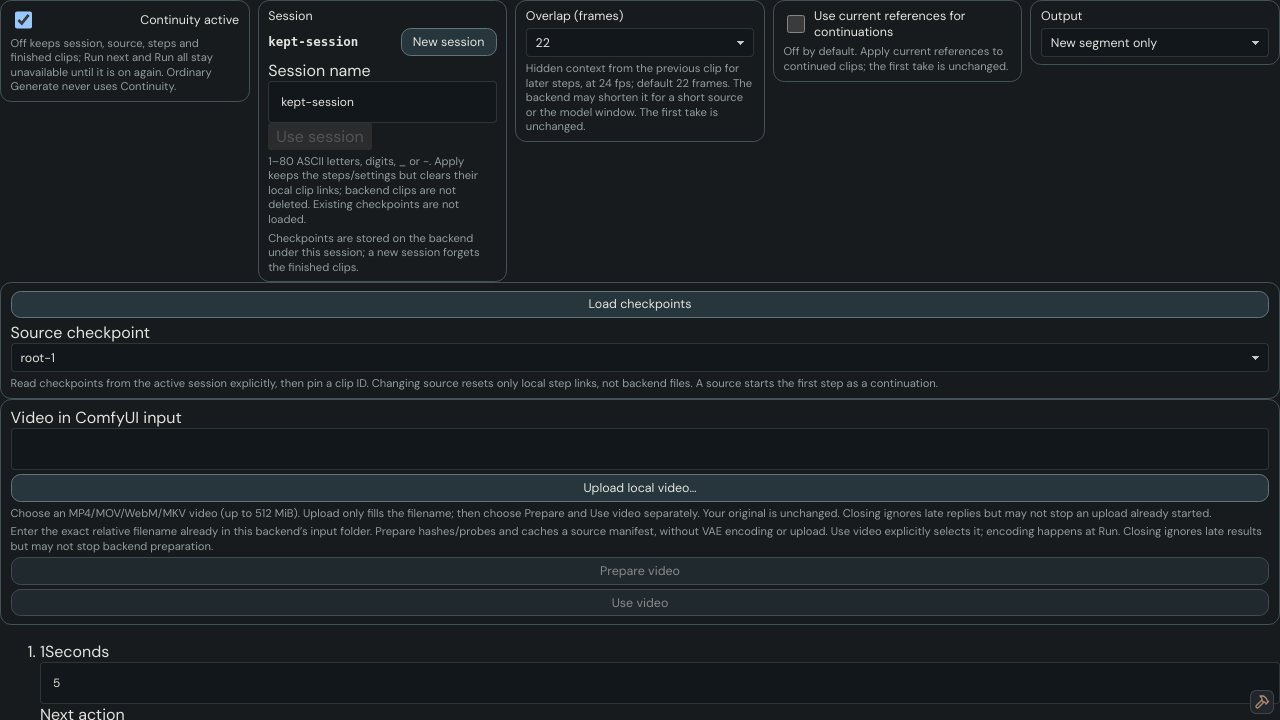
Forge writing locks the continuity plan and Cancel releases it without applying
Click the button named "Prompt Forge" at (1262, 702), box left=1250, top=690, right=1274, bottom=714
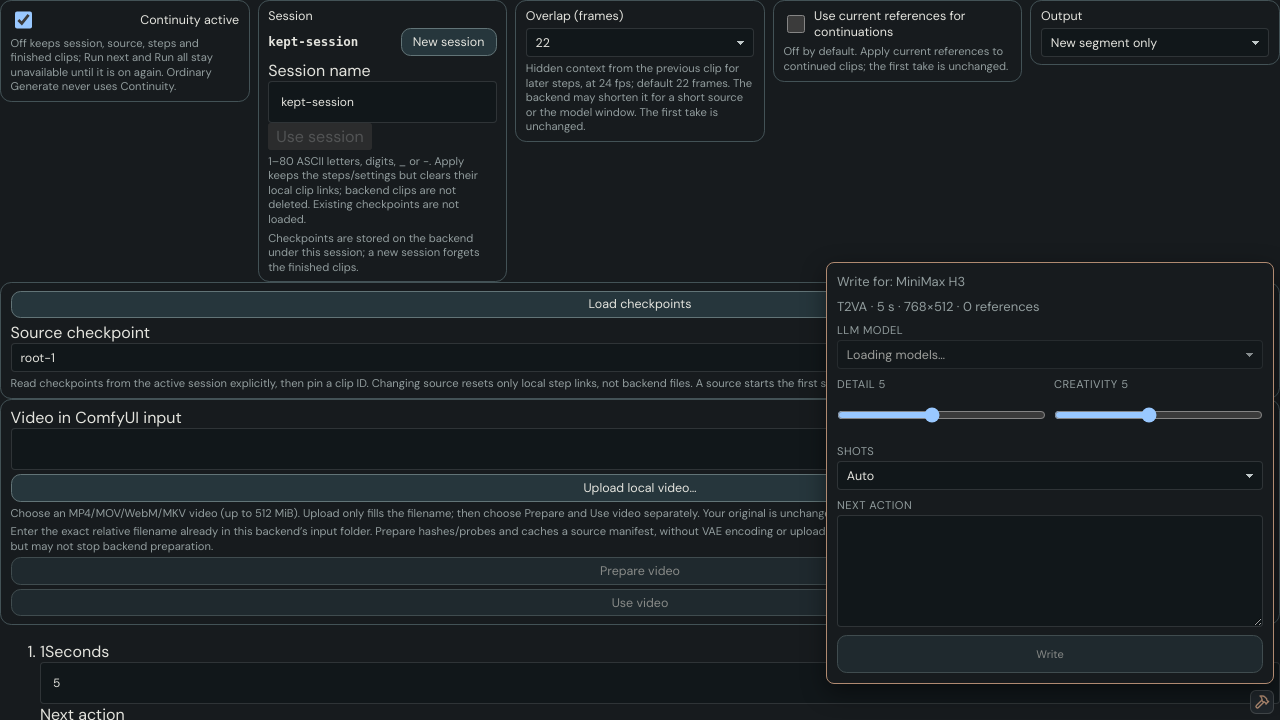
Type "turn" into the text box labelled "Next action" at (1050, 571), box left=837, top=515, right=1263, bottom=627
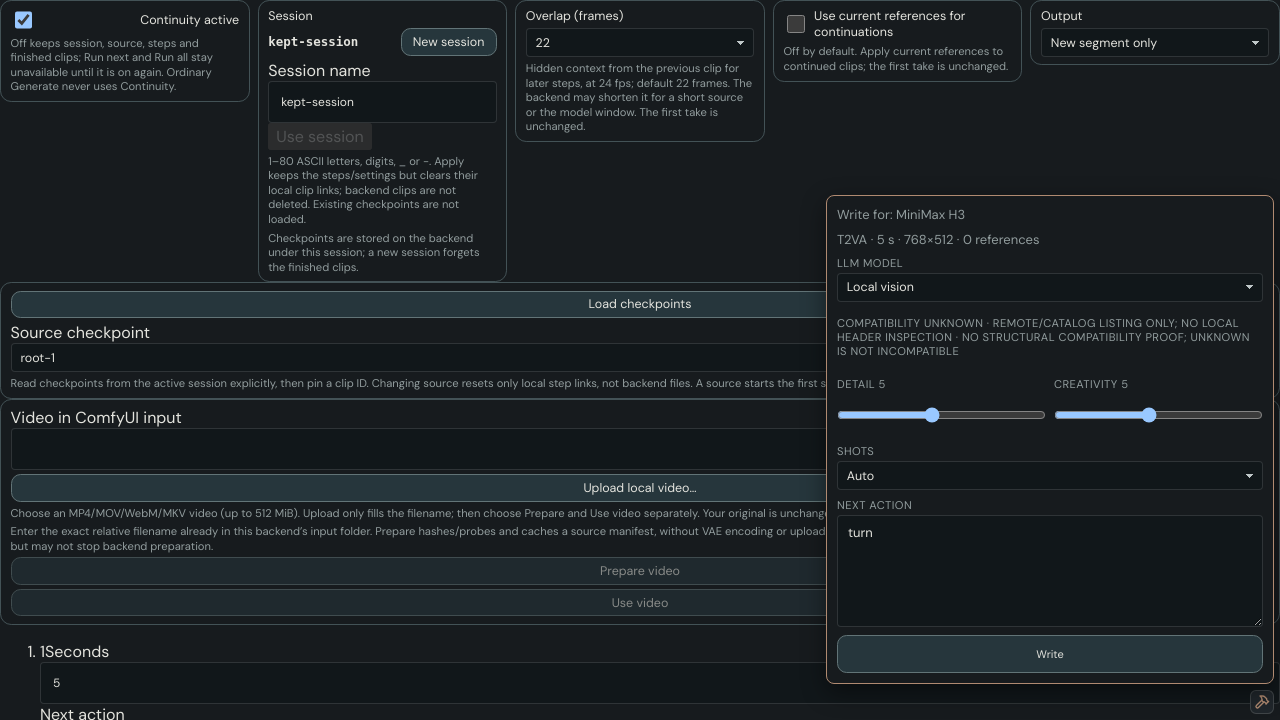
Click the button "Write" at (1050, 654), box left=837, top=635, right=1263, bottom=673
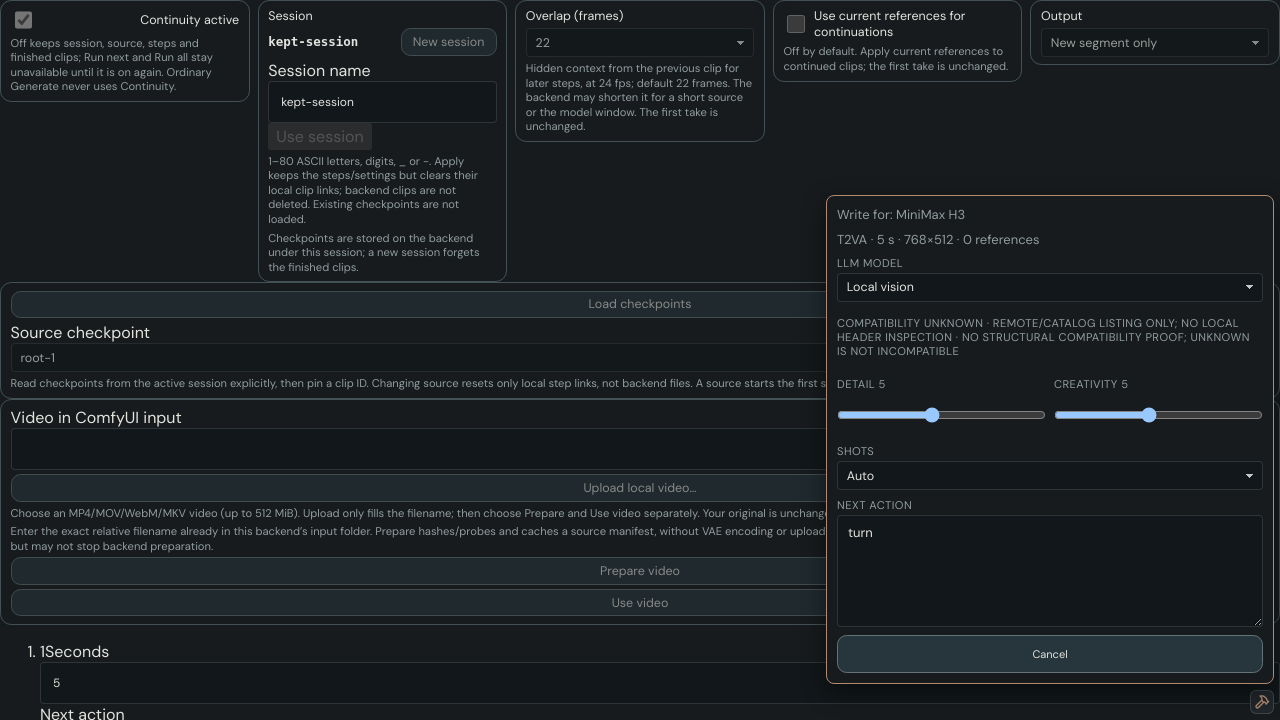
expect the field labelled "Session name" is disabled: met, box left=268, top=81, right=497, bottom=123
expect the button "Cancel" is shown: met
expect the checkbox labelled "Use current references for continuations" is disabled: met, box left=787, top=15, right=805, bottom=33
Click the button "Cancel" at (1050, 654), box left=837, top=635, right=1263, bottom=673
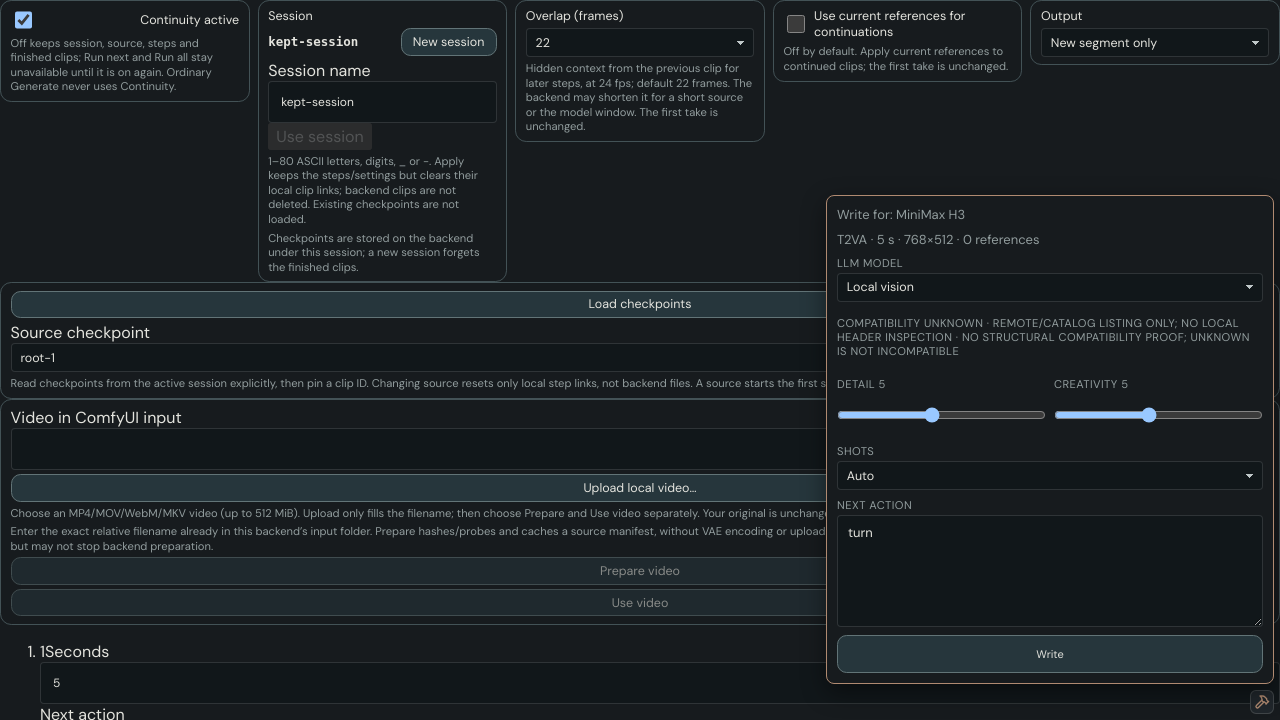
expect the checkbox labelled "Use current references for continuations" is enabled: met, box left=787, top=15, right=805, bottom=33
